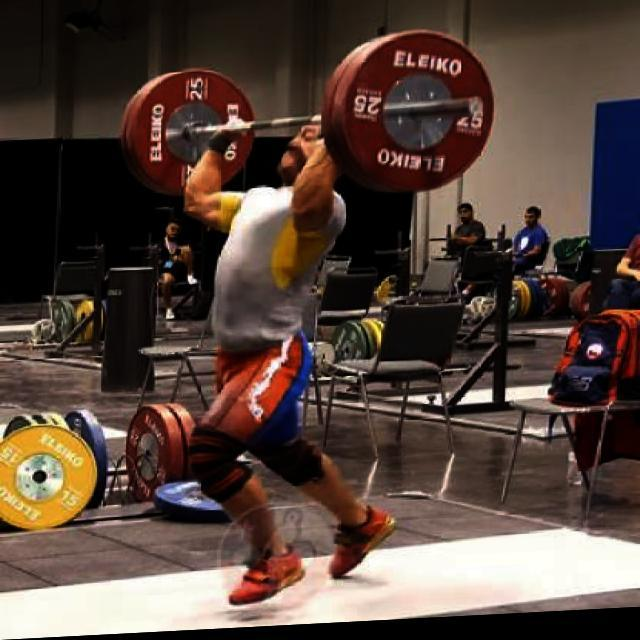barbell: (336, 28, 498, 202)
